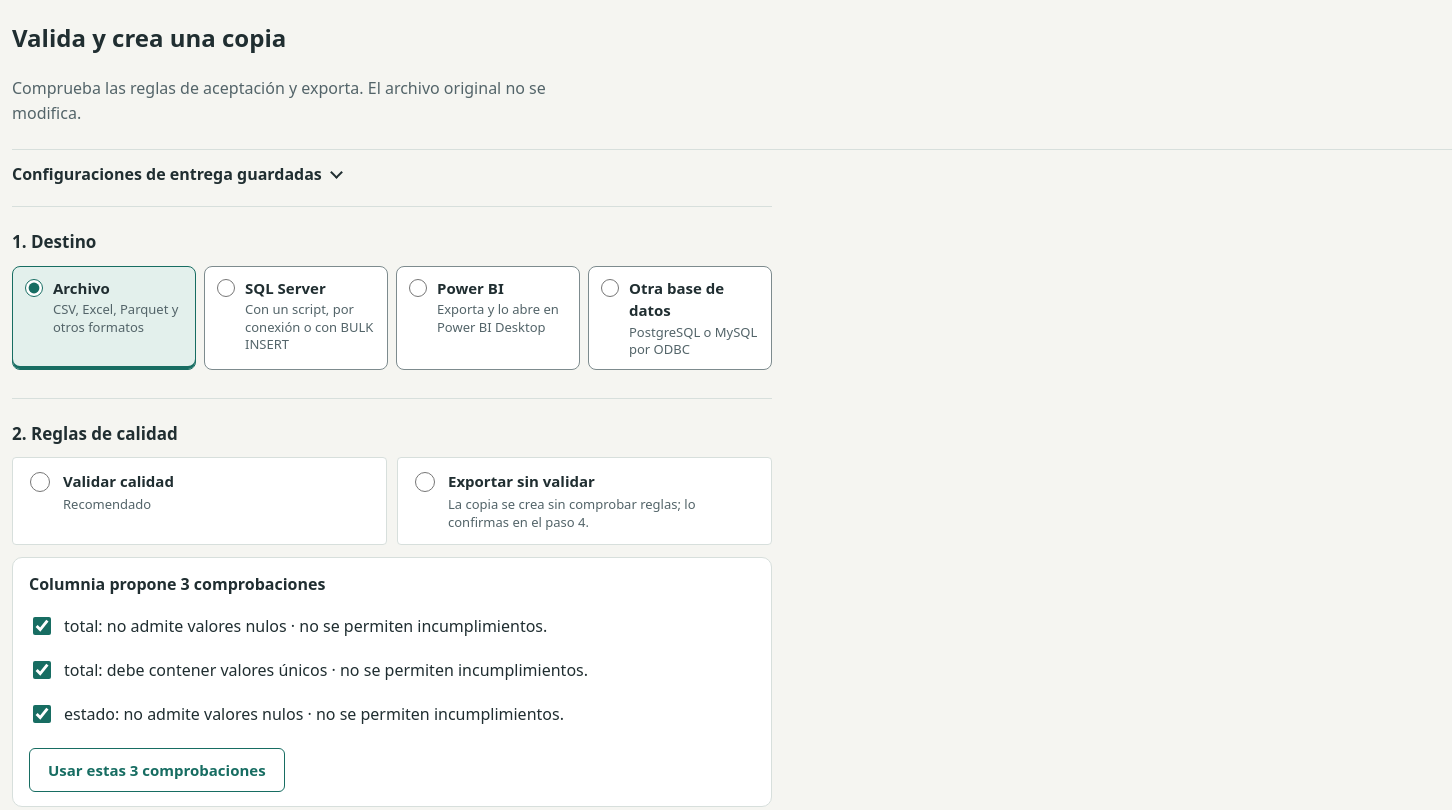
Test: comprobaciones propuestas en Entregar › usa las comprobaciones marcadas y valida antes de exportar
This screenshot has width=1452, height=810.
Click the checkbox labelled "estado": (42, 714) [33,705,51,723]
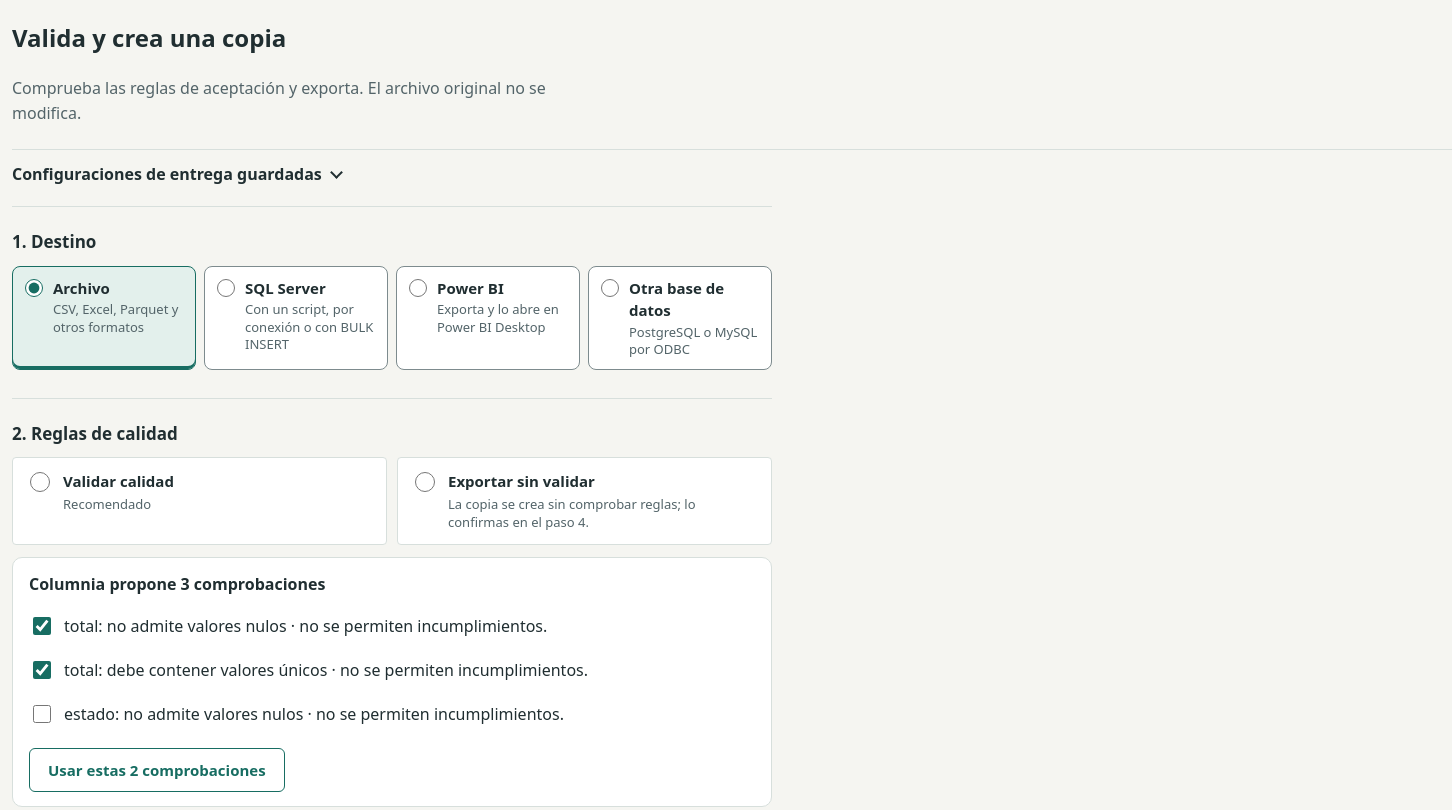
Click the button "Usar estas 2 comprobaciones": (157, 770) [29,748,285,792]
(page scrolled)
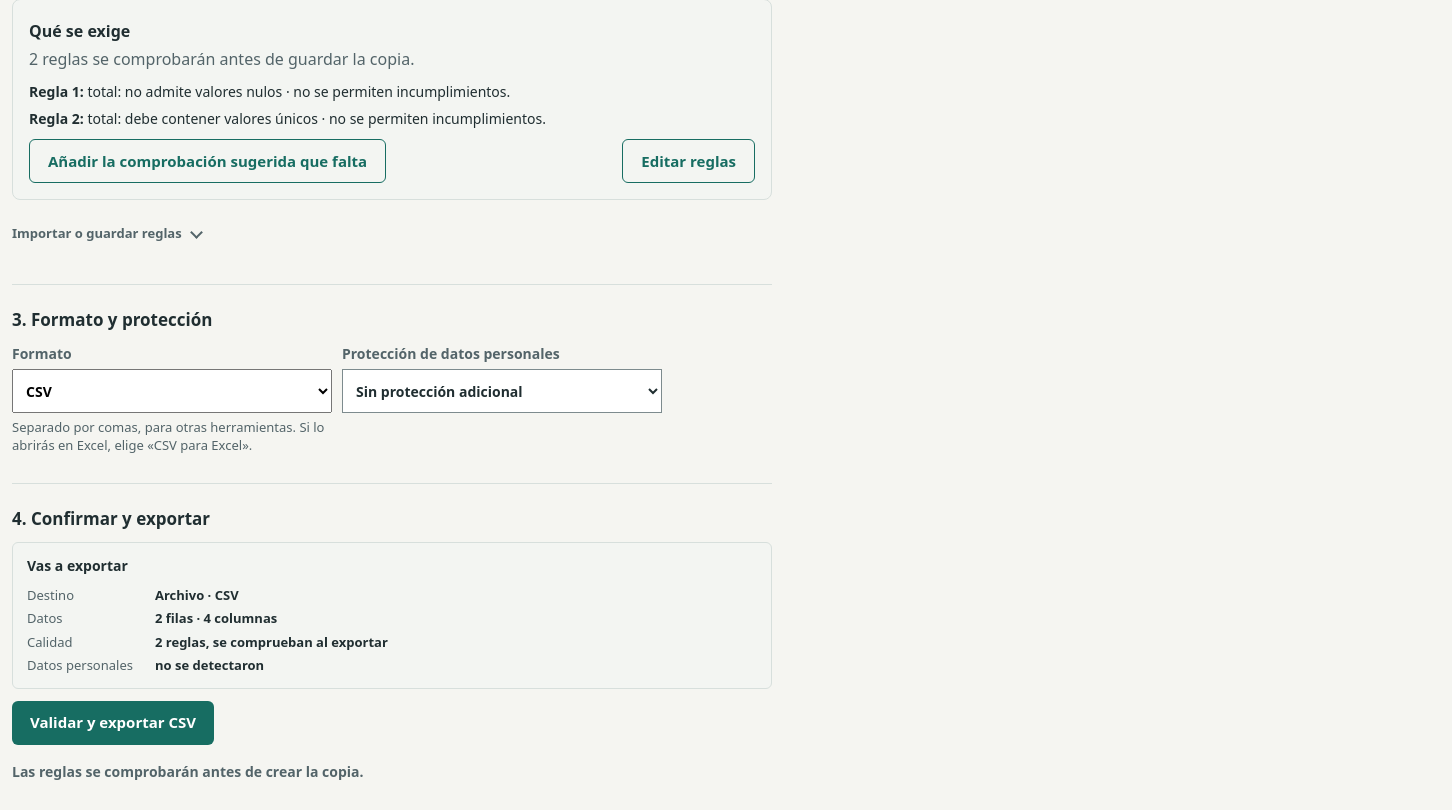
Result: the heading "Columnia propone" is gone
Result: the text "2 reglas se comprobarán antes de guardar la copia." is shown at [29,48,414,70]
